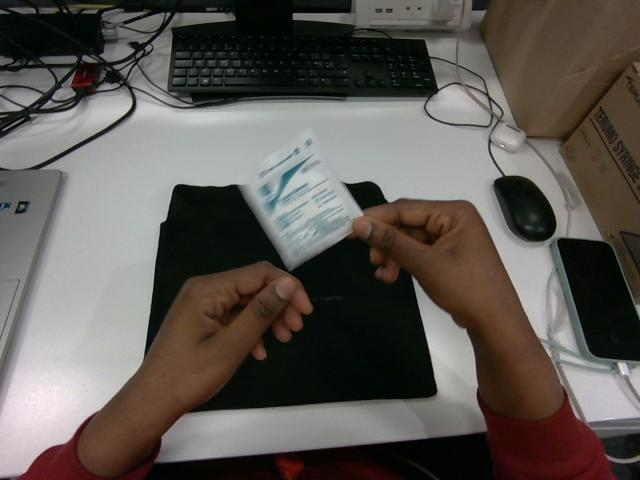gauze: (240, 131, 362, 269)
